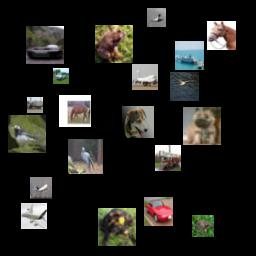airplane: (21, 203, 47, 229), (132, 64, 158, 90), (30, 177, 52, 199), (147, 8, 166, 27)
automobile: (144, 197, 173, 226), (53, 68, 69, 84)
bird: (8, 115, 46, 153), (68, 139, 103, 174), (170, 72, 199, 101)
dog: (183, 107, 221, 145), (98, 208, 136, 246), (122, 106, 154, 138)
frog: (95, 25, 133, 63), (192, 215, 214, 237)
ship: (26, 26, 64, 64), (175, 41, 204, 70)
truck: (155, 145, 181, 171), (27, 97, 43, 113)
